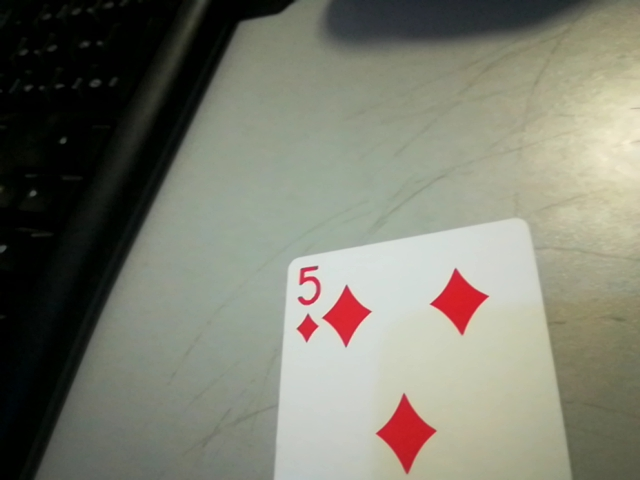fk 5: (277, 260, 334, 348)
